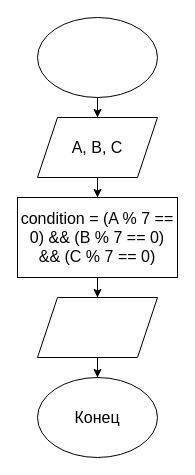
Some shapes in this 195 by 475 pixel diagram are drawn without their labels. The centre of each missing label's shape, as x and y in pixels:
"Вывод condition" goes at (x=97, y=327).
"Начало" goes at (x=97, y=57).
